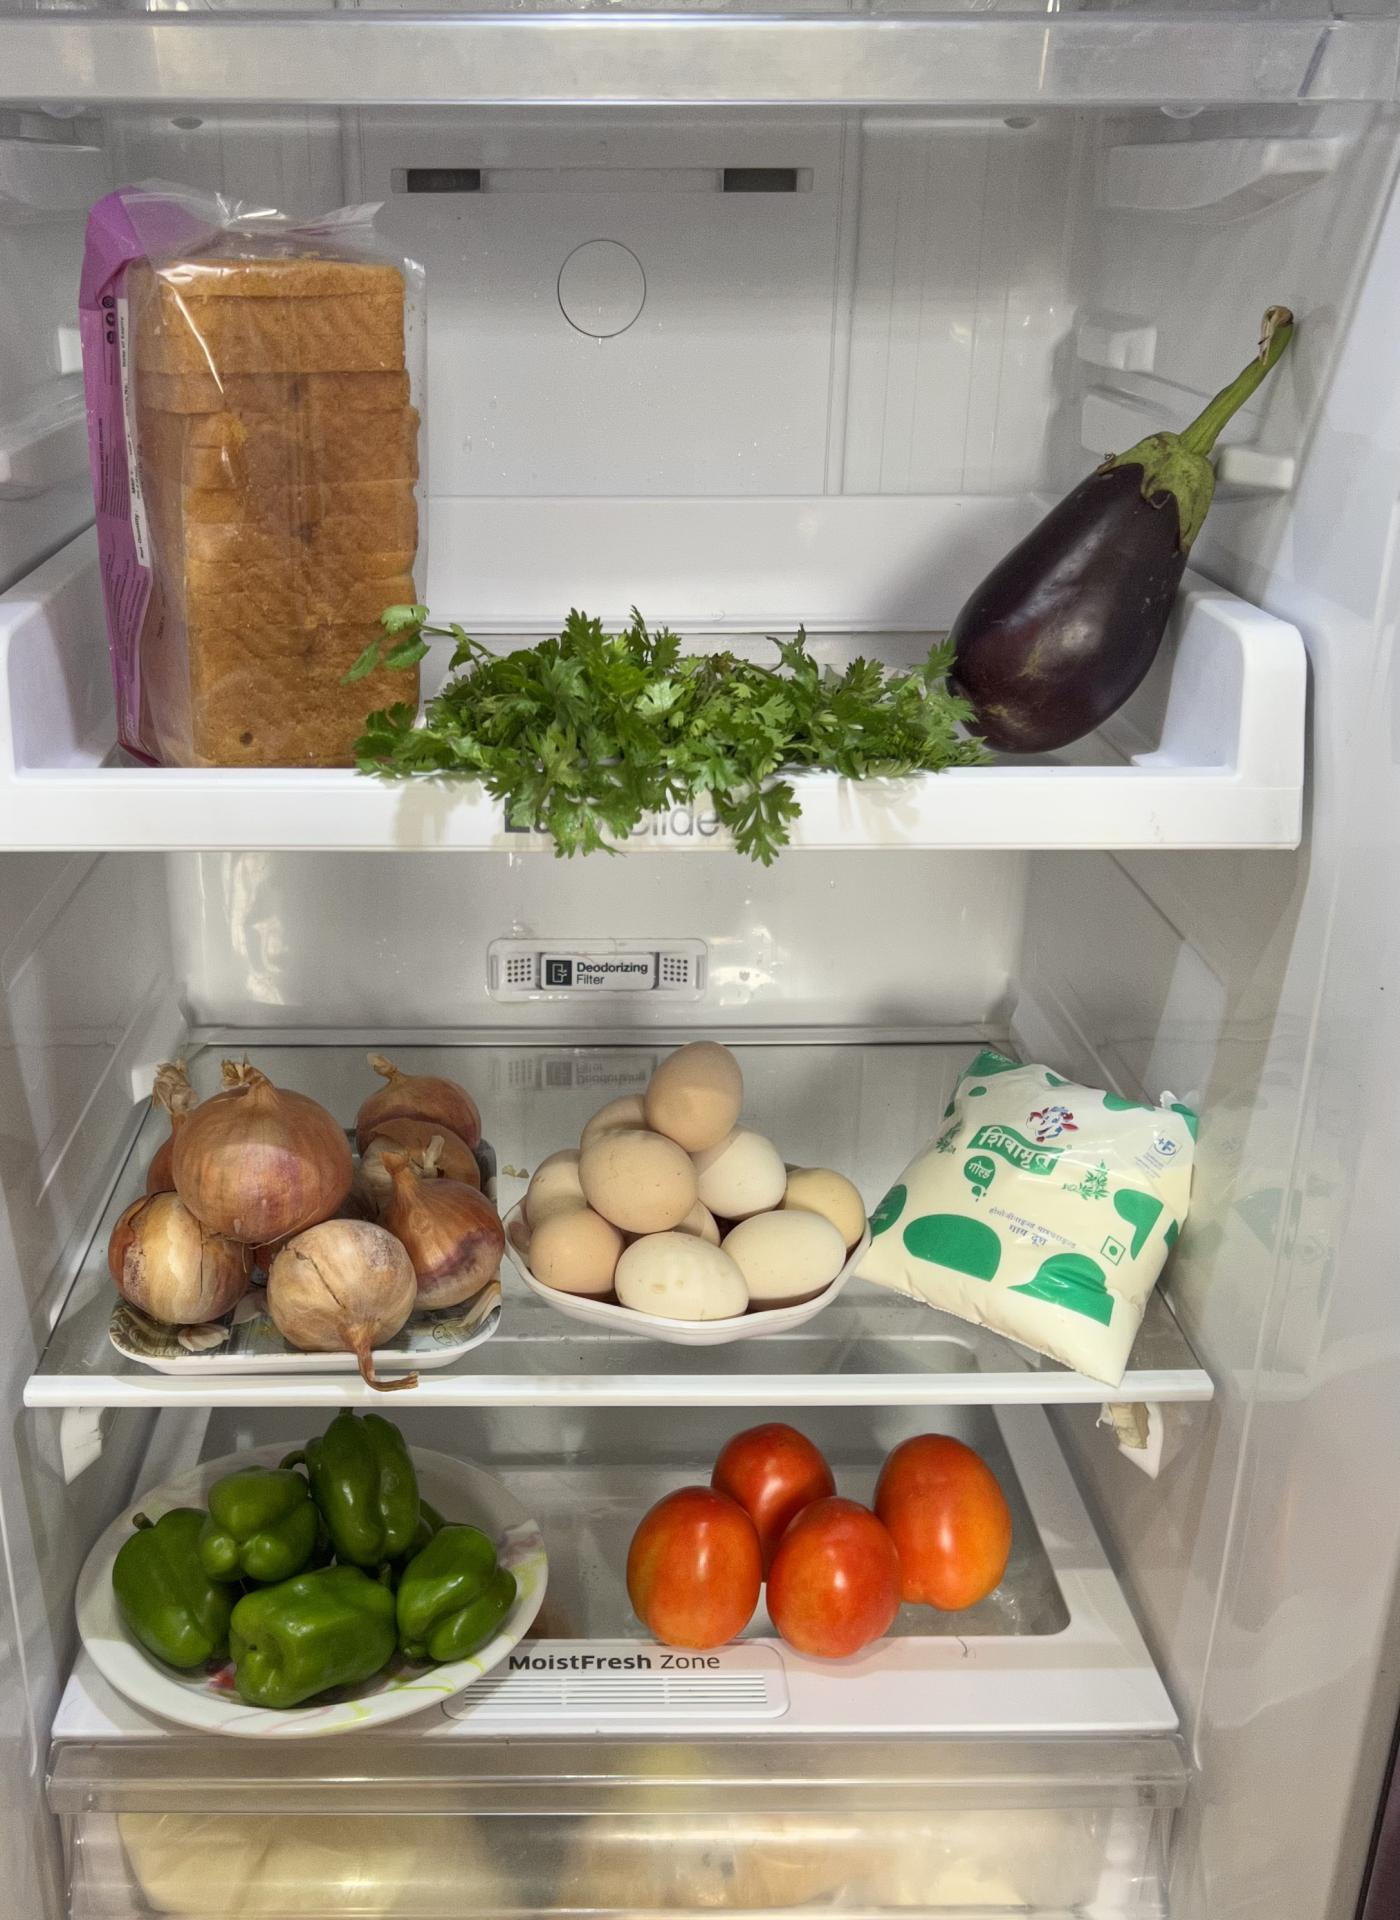bread: (61, 171, 417, 751)
capsicum: (118, 1413, 514, 1695)
coriander: (423, 620, 944, 842)
egg: (507, 1043, 862, 1334)
milk: (865, 1046, 1212, 1357)
onion: (104, 1043, 499, 1357)
tomato: (632, 1416, 1011, 1661)
